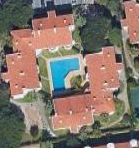pool: (50, 60, 74, 88)
